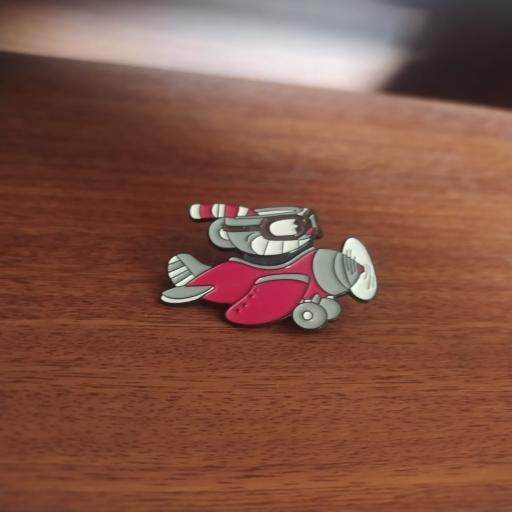Pin: (146, 196, 386, 344)
